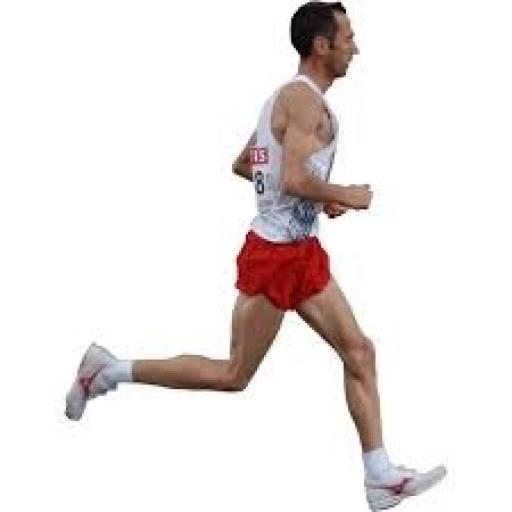running: (62, 0, 450, 510)
